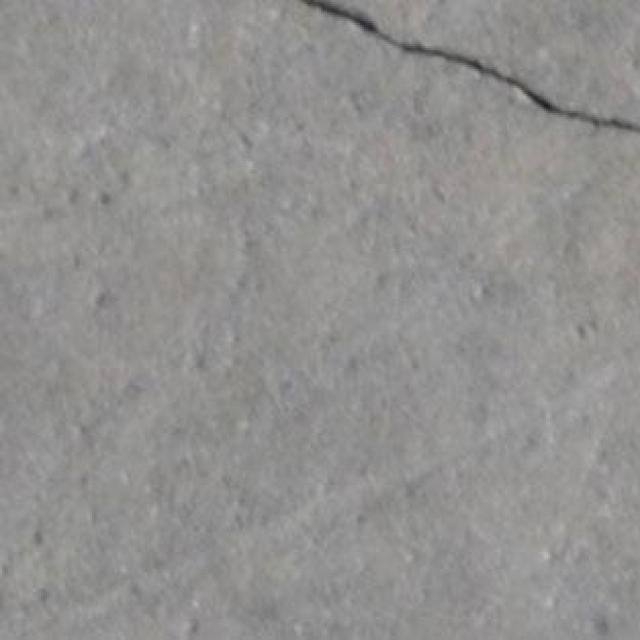diagonal crack: (296, 0, 638, 128)
